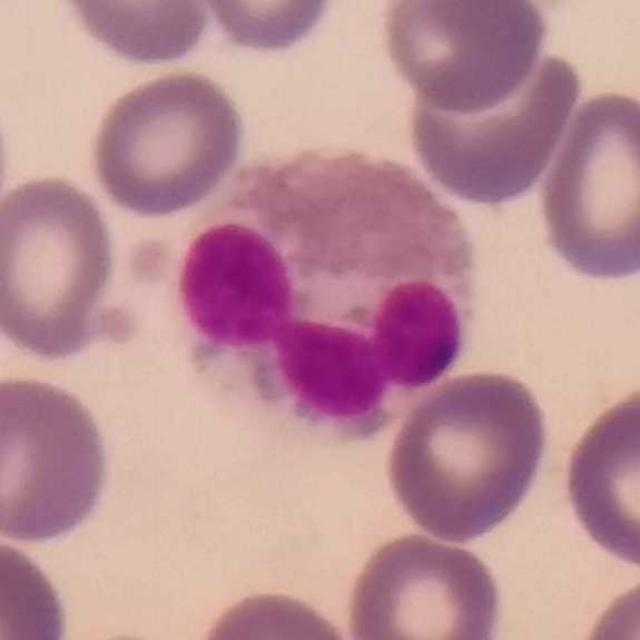eosino: (173, 143, 479, 446)
